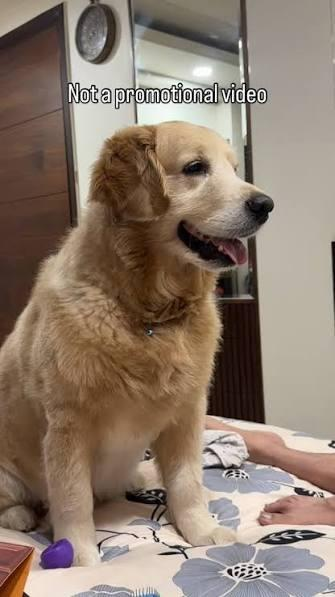adult_dog: (0, 117, 276, 570)
